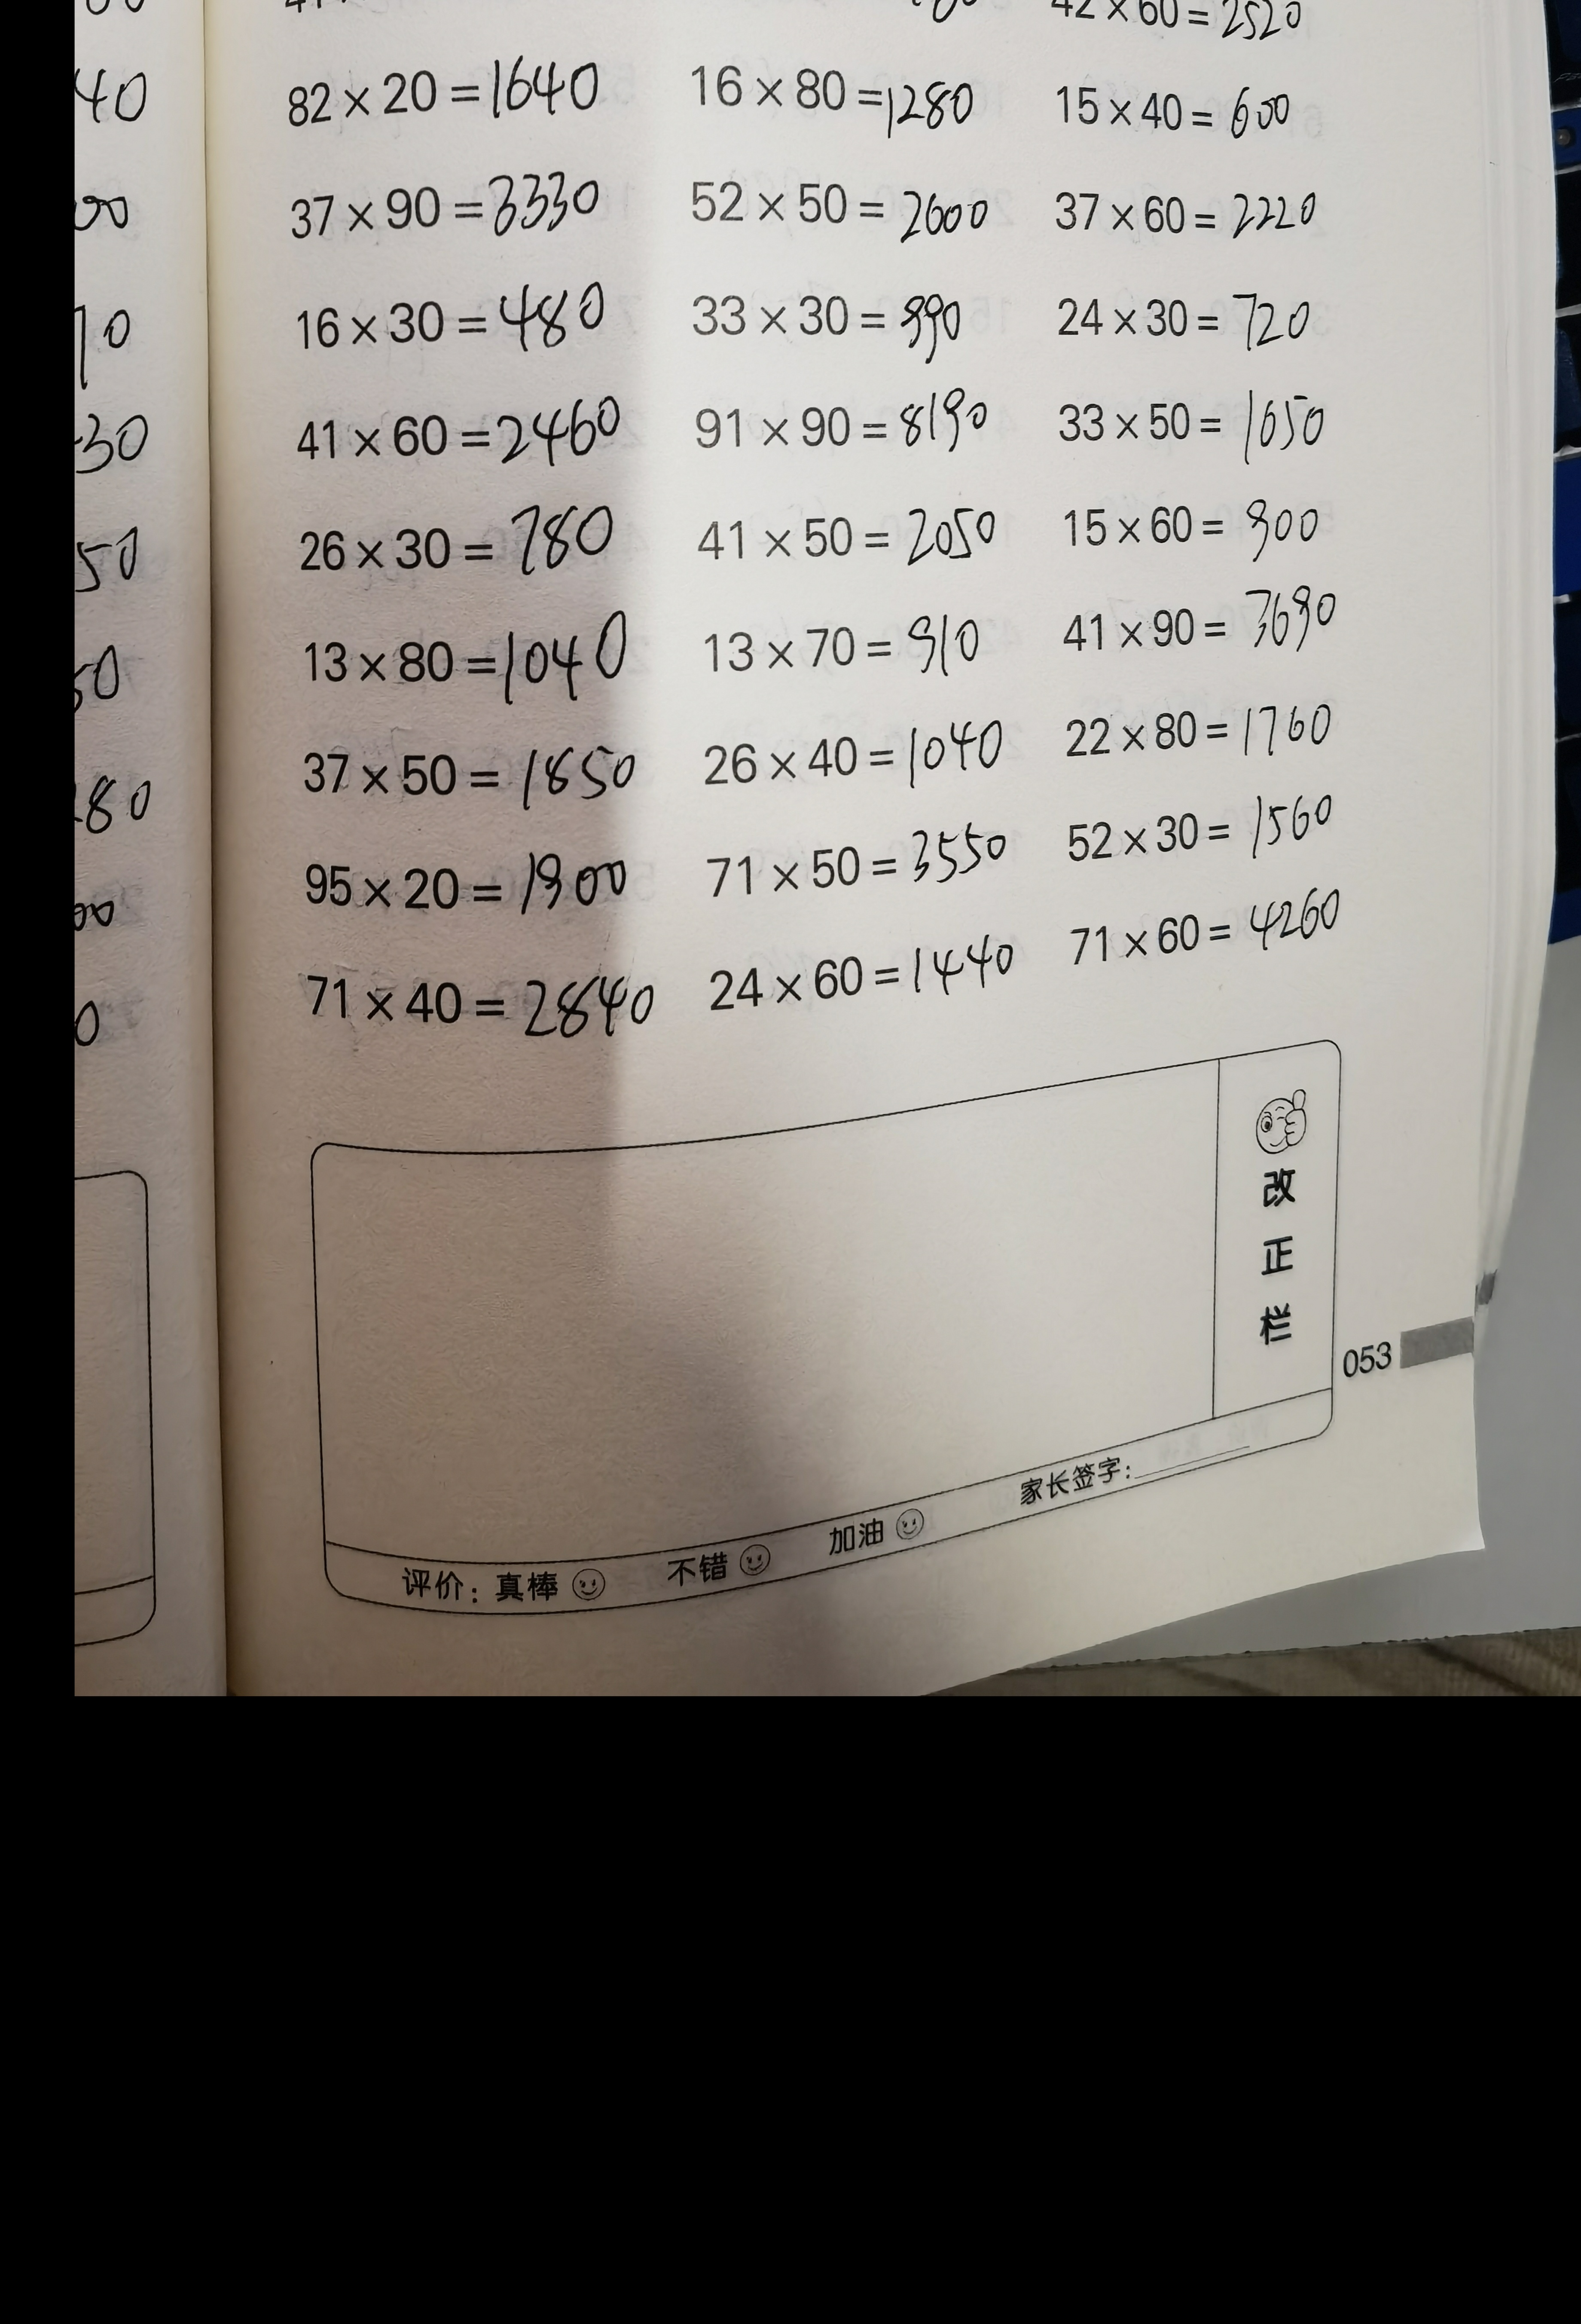equation: (681, 912, 1036, 1043), (273, 966, 667, 1074), (277, 832, 658, 940), (674, 807, 1048, 912), (677, 158, 1021, 269), (258, 723, 653, 820), (275, 37, 622, 139), (663, 488, 1031, 582), (658, 49, 1024, 144), (1055, 586, 1399, 685), (1052, 476, 1373, 582), (672, 711, 1014, 809), (1055, 374, 1375, 477), (254, 158, 626, 245), (668, 385, 1007, 477), (1064, 881, 1373, 978), (289, 610, 655, 689), (275, 376, 617, 460), (280, 503, 627, 586), (696, 273, 985, 371), (1036, 61, 1354, 149), (679, 610, 1022, 687), (278, 281, 655, 352), (1040, 185, 1352, 269), (1079, 777, 1383, 862), (1036, 687, 1364, 756), (1053, 288, 1349, 357), (1041, 0, 1352, 56), (263, 0, 631, 22), (677, 0, 1005, 24)
